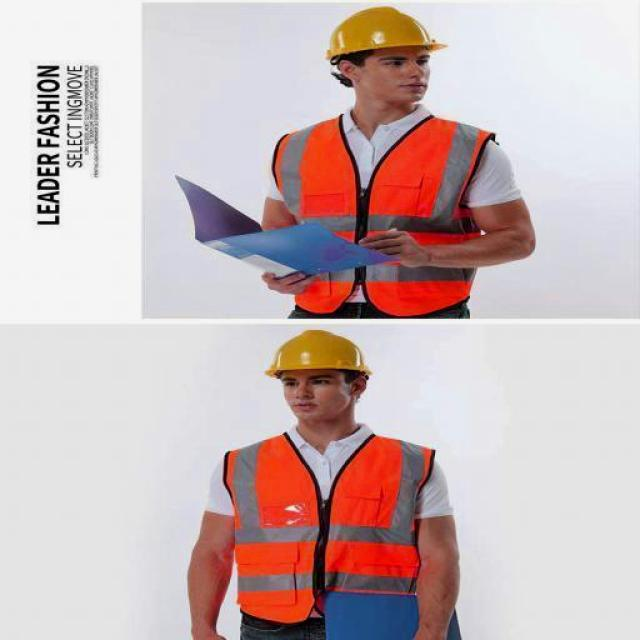face_nomask: (369, 46, 432, 102), (277, 373, 341, 417)
hand_noglove: (356, 225, 425, 270), (256, 262, 325, 298)
head_helmet: (323, 5, 447, 60), (266, 330, 374, 374)
person: (250, 1, 540, 318), (184, 334, 468, 640)
vest: (276, 114, 502, 318), (220, 432, 434, 626)
